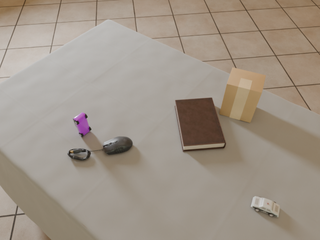book: (175, 98, 226, 152)
box: (220, 68, 266, 123)
mouse: (102, 137, 133, 155)
toy_car: (251, 196, 280, 217), (73, 112, 91, 137)
